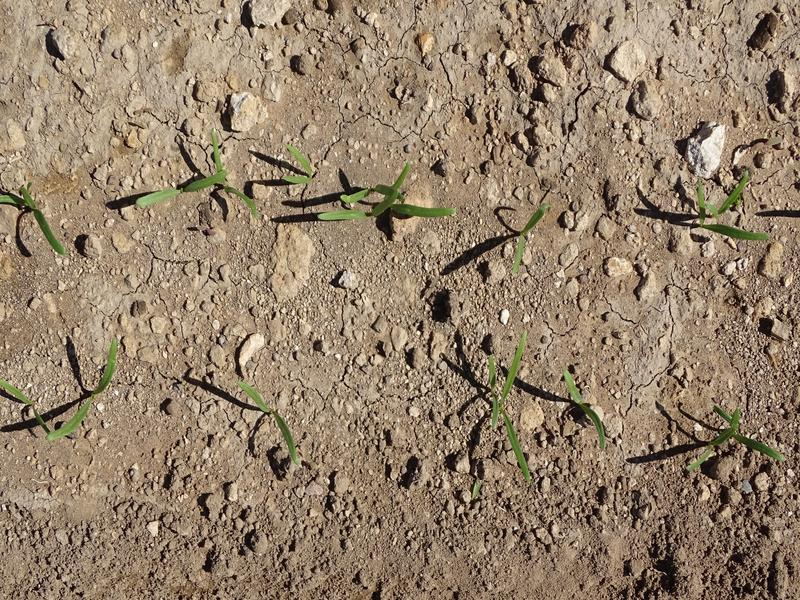Espinaca: (50, 337, 124, 439), (219, 380, 305, 465), (483, 333, 532, 467), (329, 177, 452, 227), (688, 175, 780, 241), (691, 408, 783, 471), (4, 187, 66, 258), (556, 368, 611, 446), (137, 164, 229, 207), (499, 201, 550, 274), (281, 143, 316, 189)
